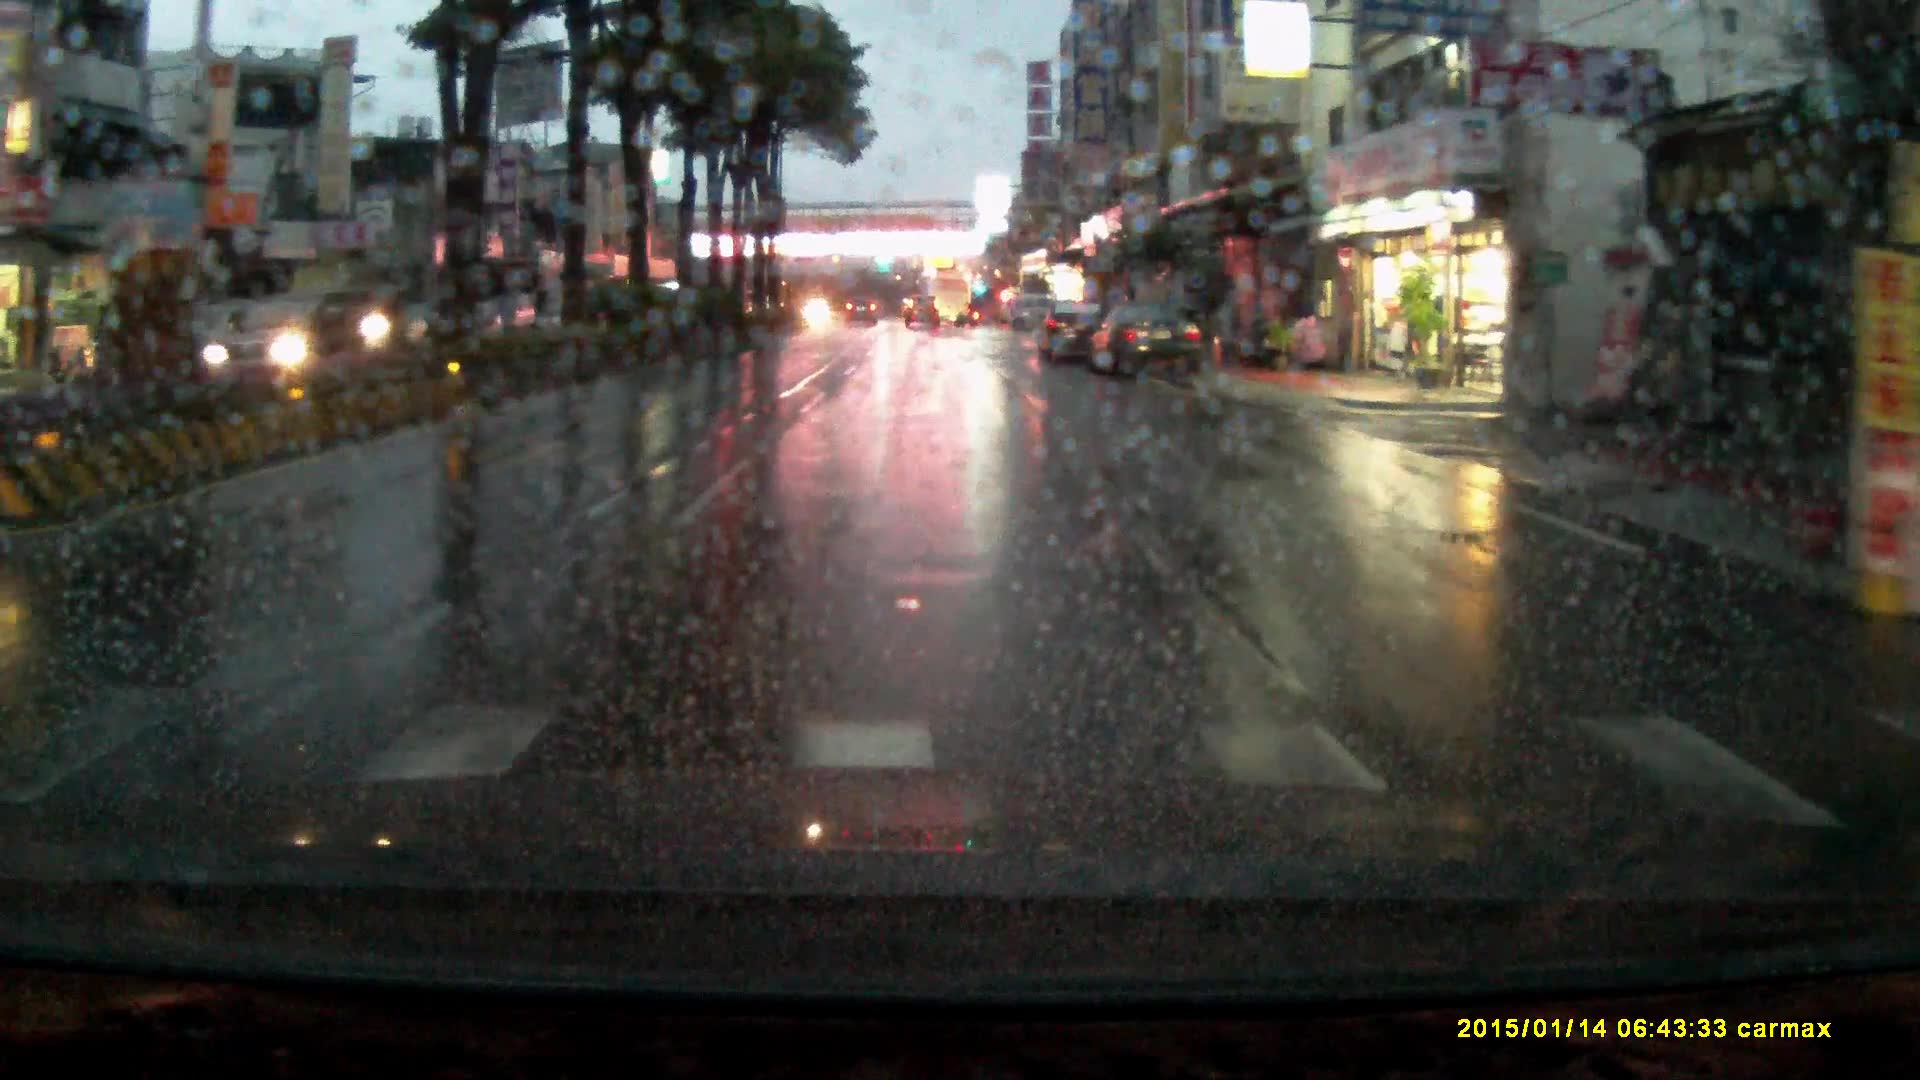rider: (344, 247, 428, 405)
vehicle: (206, 286, 389, 385), (1083, 299, 1202, 383), (176, 303, 268, 368), (1031, 297, 1103, 365), (914, 273, 973, 328), (901, 292, 938, 329), (843, 294, 876, 324)
